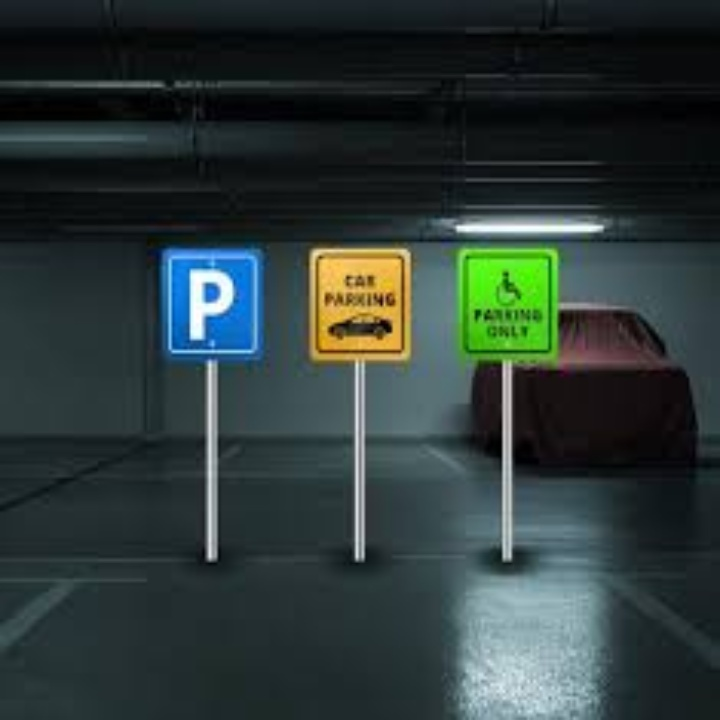parking: (184, 263, 243, 340)
